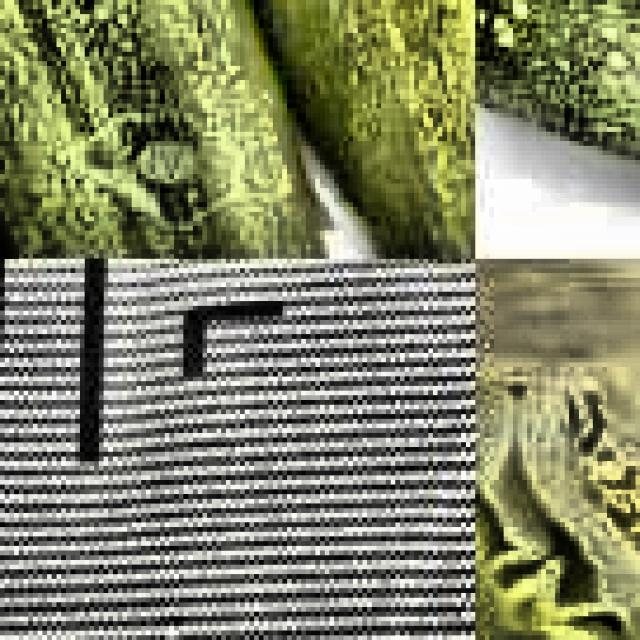cabbage: (475, 259, 640, 640)
zucchini: (0, 0, 376, 259), (475, 0, 640, 259)
